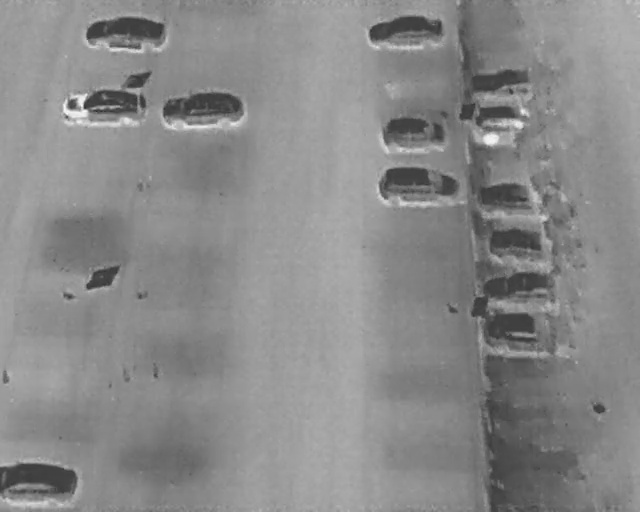Car: (57, 84, 151, 130), (483, 307, 571, 354), (158, 88, 248, 130), (0, 460, 82, 506), (375, 164, 461, 207), (82, 11, 168, 54), (476, 179, 559, 218), (465, 61, 540, 102), (367, 13, 446, 50), (485, 224, 558, 264), (481, 269, 565, 303), (380, 114, 451, 154), (471, 101, 538, 133)
